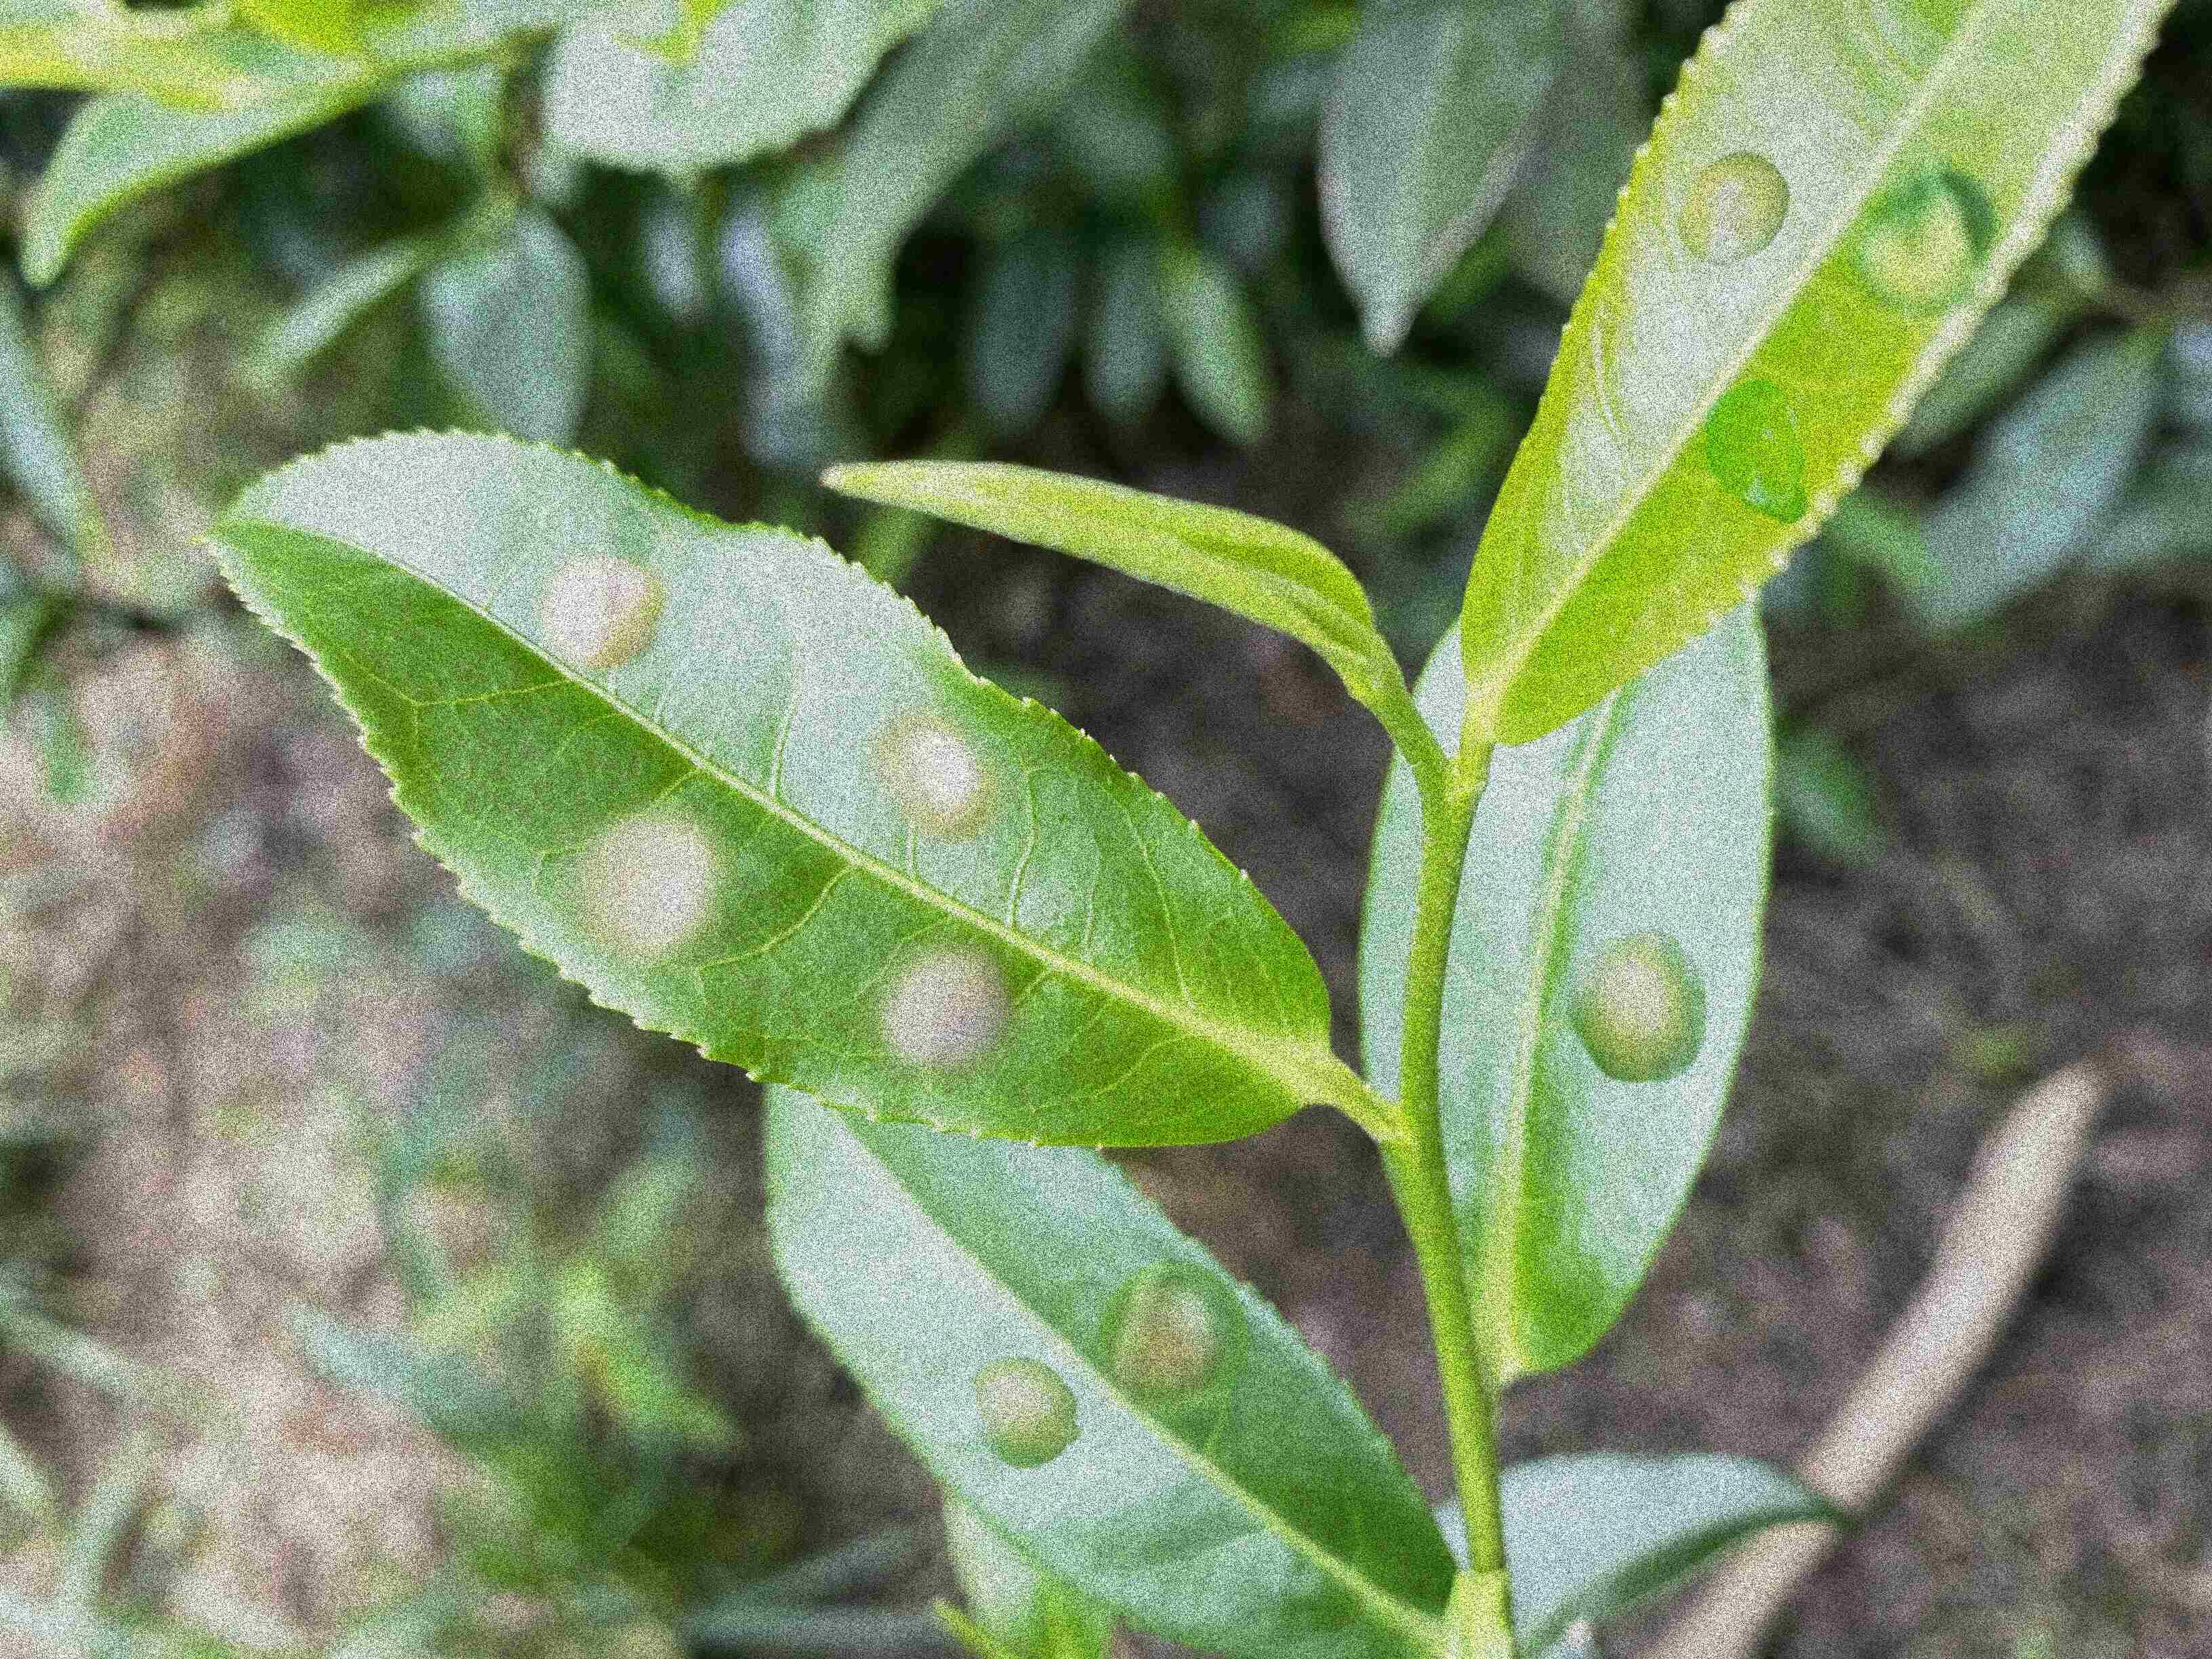chabing_high: (192, 422, 1336, 1152), (1458, 3, 2172, 749), (751, 1086, 1460, 1656)
chabing_low: (1357, 601, 1771, 1378)
